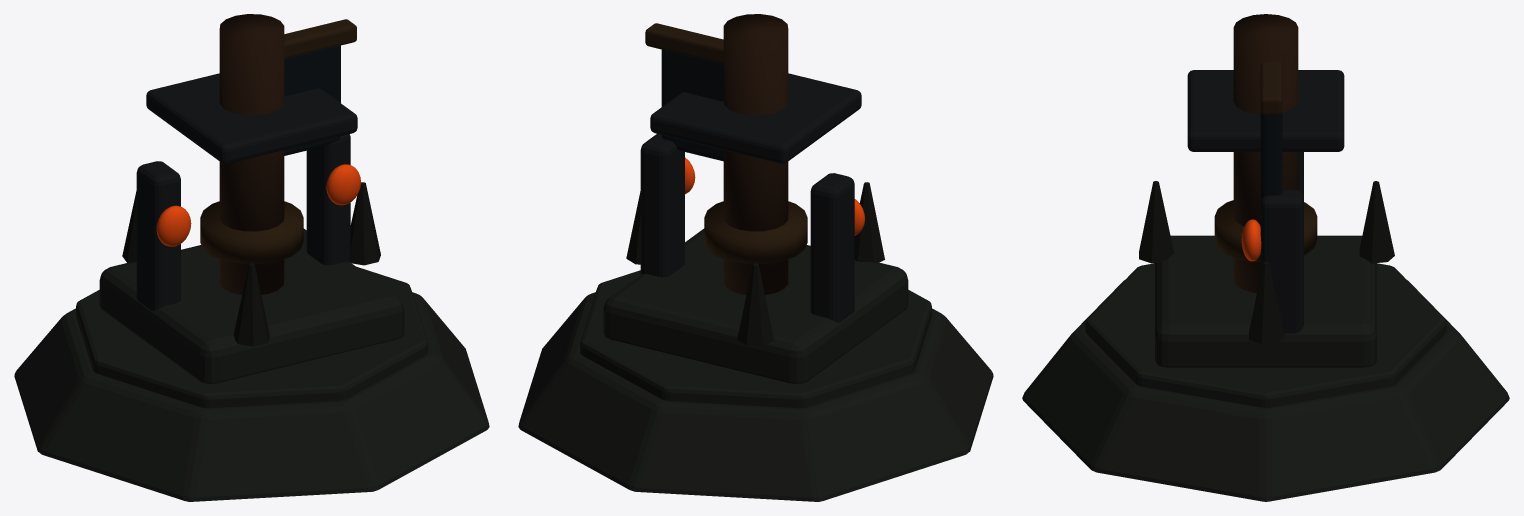
File: TowerAura2_pose.obj
The picture shows the model from 3 angles, left to right: view 1: azimuth 30°, elevation 25°; view 2: azimuth 150°, elevation 25°; view 3: azimuth 270°, elevation 25°; orthographic projection.
Parts seen in each view (by area): view 1: circular_stone_dais_lower_course, carved_stone_root, circular_stone_dais_upper_course, oak_banner_mast, iron_signal_ring, iron_ritual_pillar, iron_ritual_pillar.001, bronze_mast_collar, dark_command_banner, bone_command_ward.002, bronze_banner_bar, bone_command_ward (+3 smaller); view 2: circular_stone_dais_lower_course, carved_stone_root, circular_stone_dais_upper_course, oak_banner_mast, iron_signal_ring, iron_ritual_pillar, iron_ritual_pillar.001, bronze_mast_collar, dark_command_banner, bronze_banner_bar, bone_command_ward.001, bone_command_ward.002 (+1 smaller); view 3: circular_stone_dais_lower_course, carved_stone_root, circular_stone_dais_upper_course, iron_signal_ring, oak_banner_mast, iron_ritual_pillar.001, bronze_mast_collar, dark_command_banner, bone_command_ward, bone_command_ward.001, bone_command_ward.002, bronze_banner_bar (+1 smaller).
Boxes of the visible parts, <box> form: circular_stone_dais_lower_course: <box>14,292,489,501</box>; carved_stone_root: <box>99,228,404,383</box>; circular_stone_dais_upper_course: <box>76,266,427,408</box>; oak_banner_mast: <box>219,14,284,294</box>; iron_signal_ring: <box>146,73,357,163</box>; iron_ritual_pillar: <box>136,161,180,310</box>; iron_ritual_pillar.001: <box>306,134,350,265</box>; bronze_mast_collar: <box>200,201,303,263</box>; dark_command_banner: <box>284,45,340,155</box>; bone_command_ward.002: <box>233,263,269,346</box>; bronze_banner_bar: <box>284,19,356,58</box>; bone_command_ward: <box>349,182,380,265</box>; circular_stone_dais_lower_course: <box>518,292,993,501</box>; carved_stone_root: <box>603,228,908,383</box>; circular_stone_dais_upper_course: <box>580,270,931,408</box>; oak_banner_mast: <box>723,14,788,294</box>; iron_signal_ring: <box>650,73,861,163</box>; iron_ritual_pillar: <box>810,173,854,322</box>; iron_ritual_pillar.001: <box>640,134,684,277</box>; bronze_mast_collar: <box>704,201,807,263</box>; dark_command_banner: <box>661,49,723,161</box>; bronze_banner_bar: <box>645,23,723,63</box>; bone_command_ward.001: <box>737,263,773,345</box>; bone_command_ward.002: <box>854,182,884,262</box>; circular_stone_dais_lower_course: <box>1022,280,1509,501</box>; carved_stone_root: <box>1155,235,1376,367</box>; circular_stone_dais_upper_course: <box>1085,263,1446,407</box>; iron_signal_ring: <box>1187,70,1344,151</box>; oak_banner_mast: <box>1233,14,1298,292</box>; iron_ritual_pillar.001: <box>1260,189,1303,333</box>; bronze_mast_collar: <box>1214,200,1317,262</box>; dark_command_banner: <box>1260,111,1282,198</box>; bone_command_ward: <box>1249,261,1284,343</box>; bone_command_ward.001: <box>1359,181,1394,263</box>; bone_command_ward.002: <box>1139,181,1174,263</box>; bronze_banner_bar: <box>1260,61,1282,114</box>.
Bounding box in the file's own units: 1.8 × 1.52 × 1.8.
